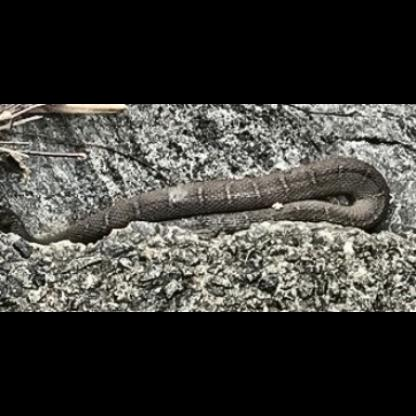Snake: (3, 149, 412, 244)
